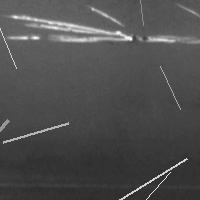scratches: (6, 7, 199, 44), (111, 154, 191, 200), (0, 118, 73, 147), (124, 167, 175, 200), (155, 61, 185, 114), (0, 0, 21, 73), (0, 115, 13, 168), (129, 0, 148, 30)
